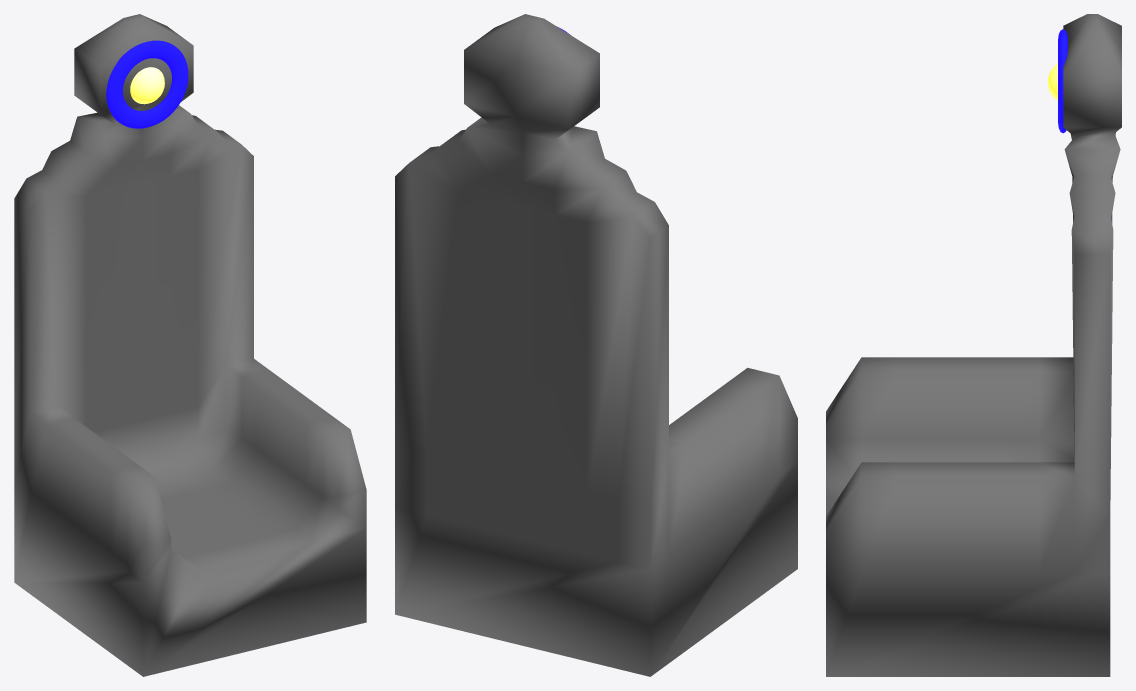
The model's file is tron.glb.
3 renders of one model, left to right at view 1: azimuth 30°, elevation 25°; view 2: azimuth 150°, elevation 25°; view 3: azimuth 270°, elevation 25°, orthographic. The views are drawn at different scales.
Parts seen in each view (by area): view 1: Cube, Torus, Sphere; view 2: Cube; view 3: Cube, Torus.
Part boxes in pixels (x1,y1,x2,y2): Cube: [14, 14, 366, 676]; Torus: [106, 40, 188, 128]; Sphere: [130, 67, 164, 104]; Cube: [395, 14, 797, 676]; Cube: [826, 14, 1121, 676]; Torus: [1058, 29, 1067, 133].
Size of the model in its own units: 2 by 4.65 by 2.08.
